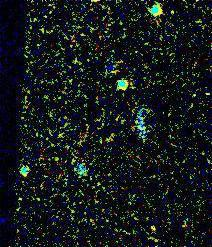star: (144, 222, 174, 247)
